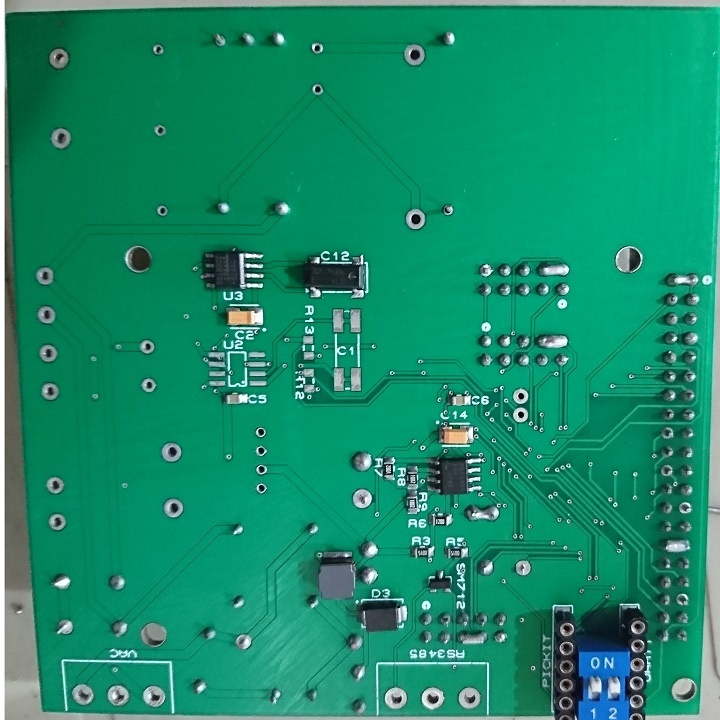F: (419, 684, 448, 712), (382, 684, 408, 714), (141, 682, 169, 709), (401, 41, 427, 70), (159, 497, 186, 523), (69, 681, 95, 708), (230, 629, 257, 655), (457, 684, 484, 710), (404, 206, 428, 234), (106, 682, 131, 708), (51, 615, 76, 640), (47, 48, 73, 72), (45, 512, 69, 538), (49, 128, 74, 152), (33, 265, 56, 289), (36, 342, 59, 366), (351, 487, 375, 510), (207, 26, 229, 51), (513, 557, 536, 580), (161, 445, 185, 466), (39, 383, 64, 403), (511, 385, 533, 407), (36, 305, 59, 326), (43, 476, 64, 498), (510, 406, 530, 426), (139, 376, 157, 397), (477, 258, 493, 280), (309, 41, 327, 60), (138, 338, 156, 357), (149, 41, 167, 58), (678, 500, 694, 518), (154, 203, 170, 220), (676, 592, 692, 609), (441, 202, 459, 217), (661, 425, 676, 443), (254, 463, 269, 480), (253, 426, 271, 440), (659, 462, 673, 479), (153, 124, 167, 138), (308, 83, 322, 97), (255, 444, 267, 460), (253, 483, 269, 495)
P: (464, 502, 502, 526), (535, 260, 573, 281), (664, 269, 703, 288), (456, 629, 490, 649), (661, 538, 696, 557), (536, 332, 570, 351)
